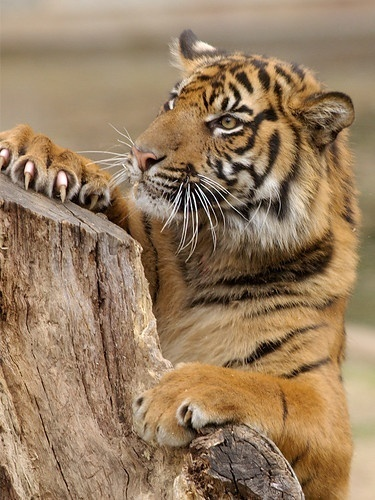tigre: (1, 22, 363, 497)
